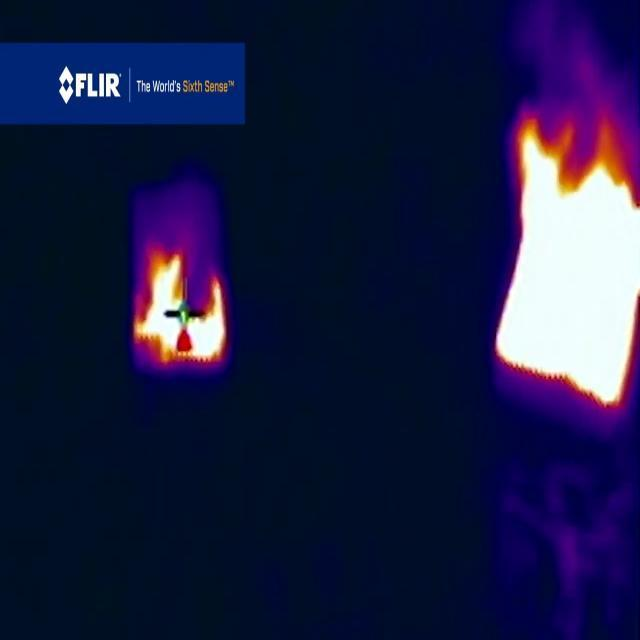fire: (495, 127, 640, 412), (134, 249, 230, 367)
